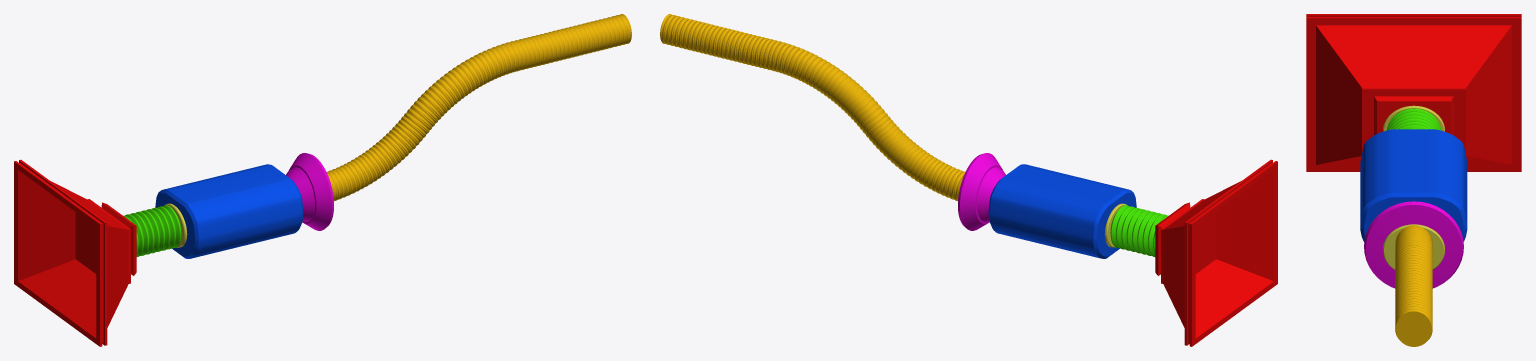
Rendered from GhostVaccum.fbx.
3 renders of one model, left to right at view 1: azimuth 30°, elevation 25°; view 2: azimuth 150°, elevation 25°; view 3: azimuth 270°, elevation 25°, orthographic. The views are drawn at different scales.
Parts seen in each view (by area): view 1: Nozzle, Tube, Canister, pCylinder13, Bridge; view 2: Nozzle, Tube, Canister, pCylinder13, Bridge; view 3: Nozzle, Canister, Tube, pCylinder13, Seal4, Bridge, Seal2.
Part boxes in pixels (x1=…): Nozzle: x1=14, y1=159, x2=136, y2=346; Tube: x1=326, y1=14, x2=631, y2=201; Canister: x1=155, y1=164, x2=303, y2=258; pCylinder13: x1=286, y1=153, x2=333, y2=230; Bridge: x1=123, y1=205, x2=181, y2=256; Nozzle: x1=1155, y1=159, x2=1277, y2=346; Tube: x1=660, y1=14, x2=965, y2=201; Canister: x1=988, y1=164, x2=1136, y2=258; pCylinder13: x1=958, y1=153, x2=1005, y2=230; Bridge: x1=1110, y1=205, x2=1168, y2=256; Nozzle: x1=1306, y1=14, x2=1521, y2=171; Canister: x1=1360, y1=129, x2=1467, y2=241; Tube: x1=1395, y1=225, x2=1432, y2=346; pCylinder13: x1=1364, y1=201, x2=1463, y2=288; Seal4: x1=1383, y1=224, x2=1444, y2=269; Bridge: x1=1387, y1=108, x2=1441, y2=130; Seal2: x1=1383, y1=105, x2=1444, y2=131.
Size of the model in its own units: 48.1 by 13.12 by 12.62.
